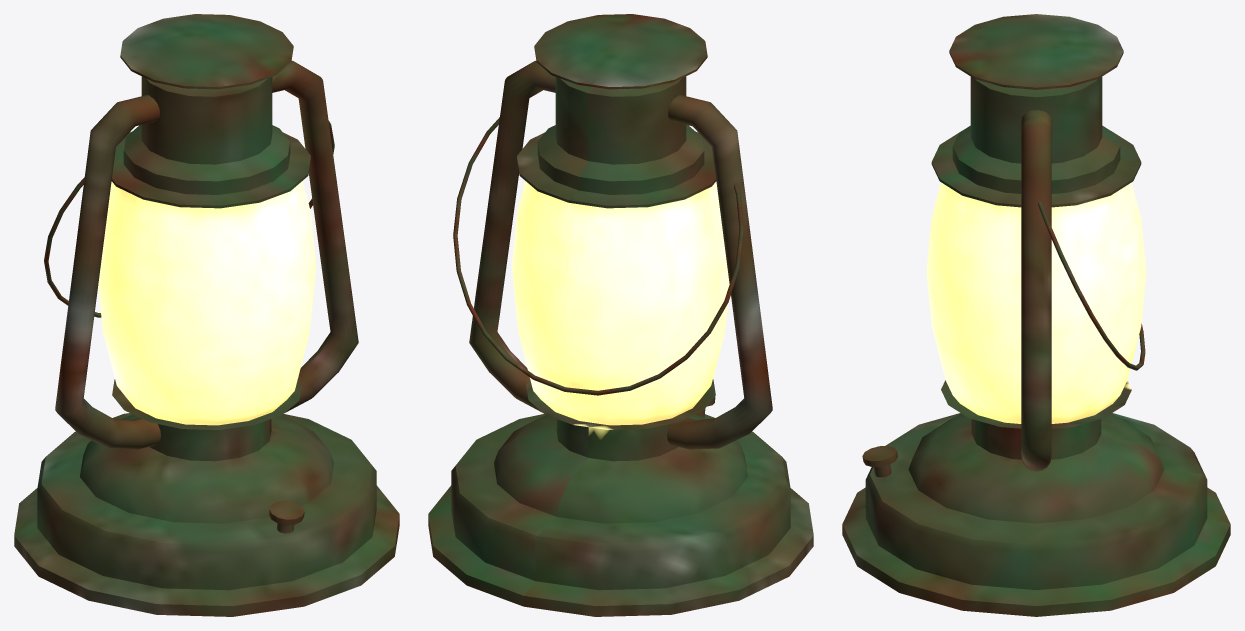
The model's file is petrol_lamp.glb.
The picture shows the model from 3 angles, left to right: view 1: azimuth 30°, elevation 25°; view 2: azimuth 150°, elevation 25°; view 3: azimuth 270°, elevation 25°; orthographic projection.
Parts seen in each view (by area): view 1: Lantern_Material #26_0, Lanter-Handle_Material #27_0; view 2: Lantern_Material #26_0, Lanter-Handle_Material #27_0; view 3: Lantern_Material #26_0, Lanter-Handle_Material #27_0.
Part boxes in pixels (x1,y1,x2,y2): Lantern_Material #26_0: [14, 14, 399, 616]; Lanter-Handle_Material #27_0: [44, 121, 334, 317]; Lantern_Material #26_0: [428, 14, 813, 616]; Lanter-Handle_Material #27_0: [453, 117, 743, 395]; Lantern_Material #26_0: [842, 14, 1230, 616]; Lanter-Handle_Material #27_0: [1038, 201, 1145, 370].
Bounding box in the file's own units: 14.71 × 20.57 × 14.71.
2 materials, 2 textured.
